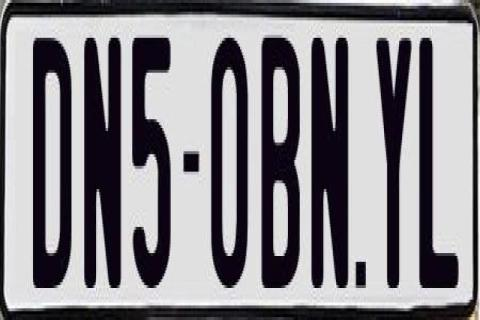0: (130, 29, 174, 288), (210, 29, 252, 294)
B: (260, 35, 300, 294)
D: (33, 35, 73, 299)
L: (416, 32, 456, 282)
N: (310, 35, 352, 294), (82, 32, 124, 288)
Y: (374, 38, 415, 306)
